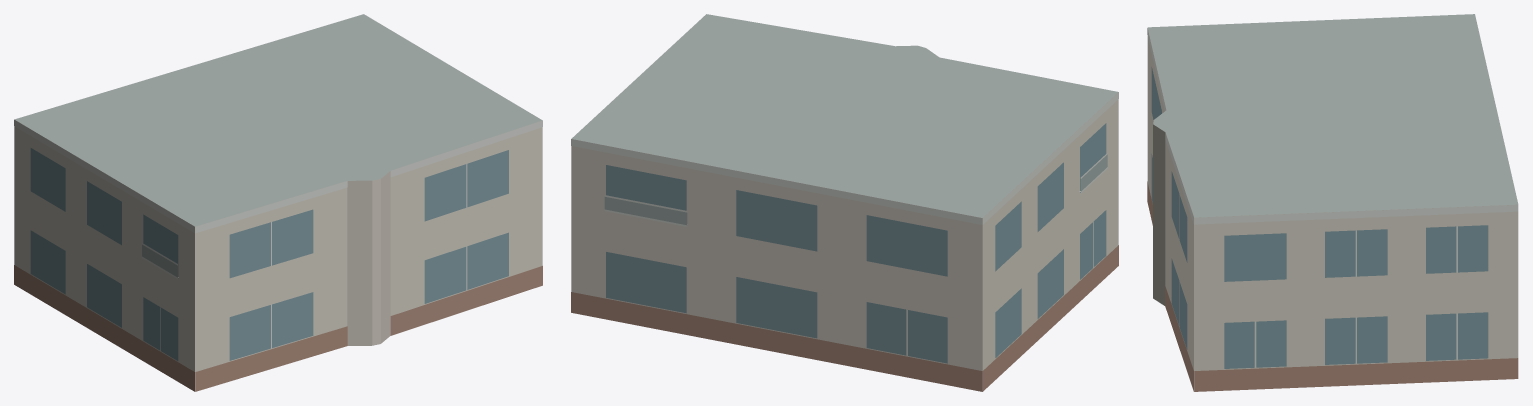
File: survey-upis-32621805.glb
3 views of the same model, side by side, from view 1: azimuth 30°, elevation 25°; view 2: azimuth 150°, elevation 25°; view 3: azimuth 270°, elevation 25° (orthographic). The views are drawn at different scales.
Visible parts, largest first — view 1: survey-upis-32621805.tmp; view 2: survey-upis-32621805.tmp; view 3: survey-upis-32621805.tmp.
Part boxes in pixels (box(x1,y1,x2,y2)): survey-upis-32621805.tmp: box(14, 14, 542, 391); survey-upis-32621805.tmp: box(571, 14, 1118, 391); survey-upis-32621805.tmp: box(1147, 14, 1518, 391).
Bounding box in the file's own units: 15.3 × 6.1 × 11.78.
